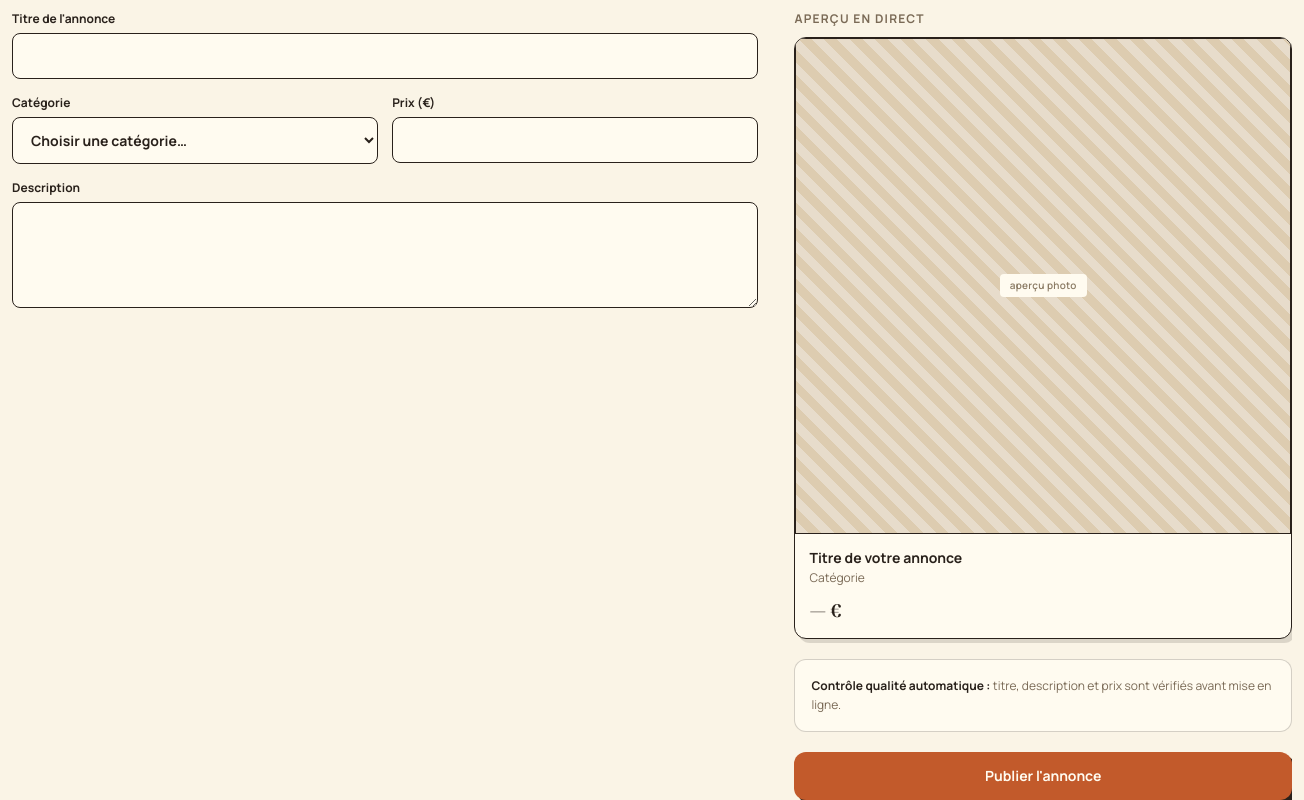
NewListingPage › shows validation errors when required fields are missing
The image size is (1304, 800).
(page scrolled)
Click the button "Publier l'annonce": (1043, 776) [794, 752, 1292, 799]
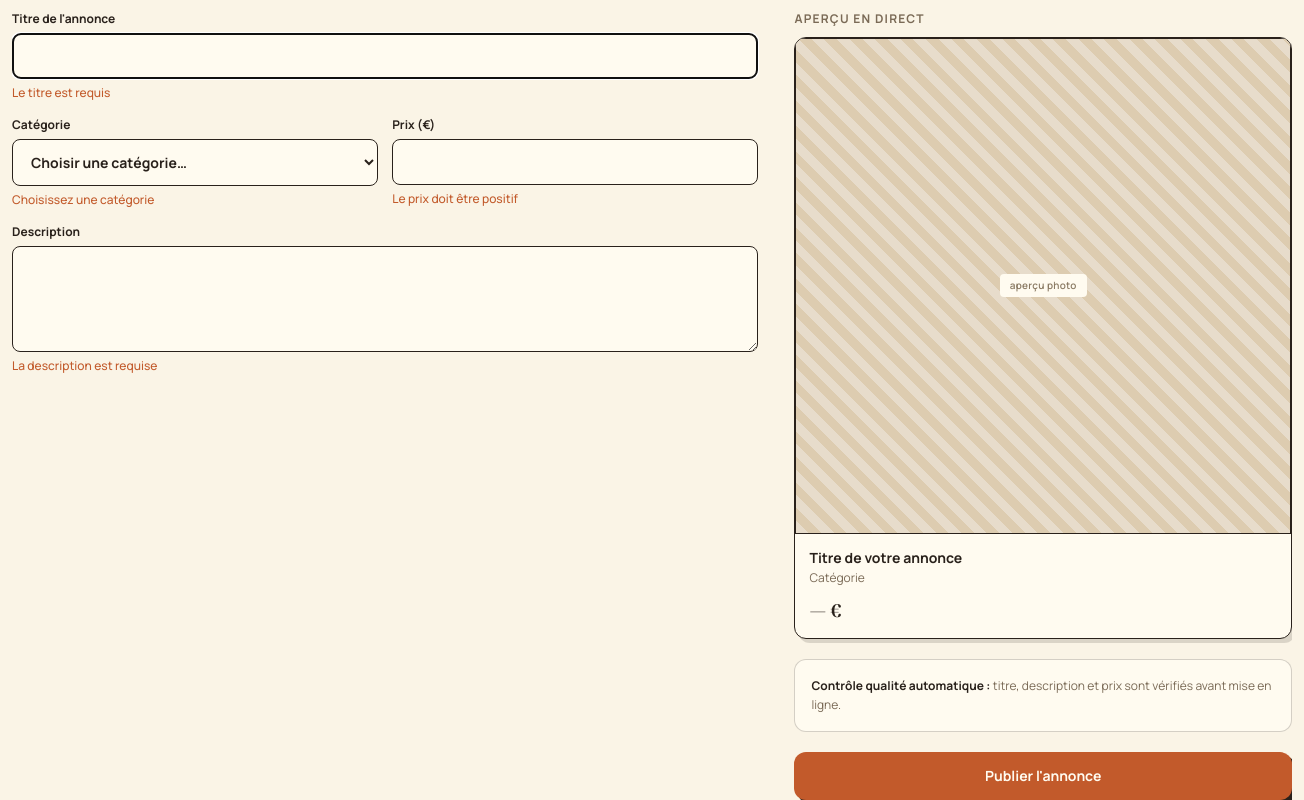
Expected: the text "Le titre est requis" is shown, [12, 84, 110, 101]
Expected: the text "La description est requise" is shown, [12, 357, 157, 374]
Expected: the text "Choisissez une catégorie" is shown, [12, 191, 154, 208]
